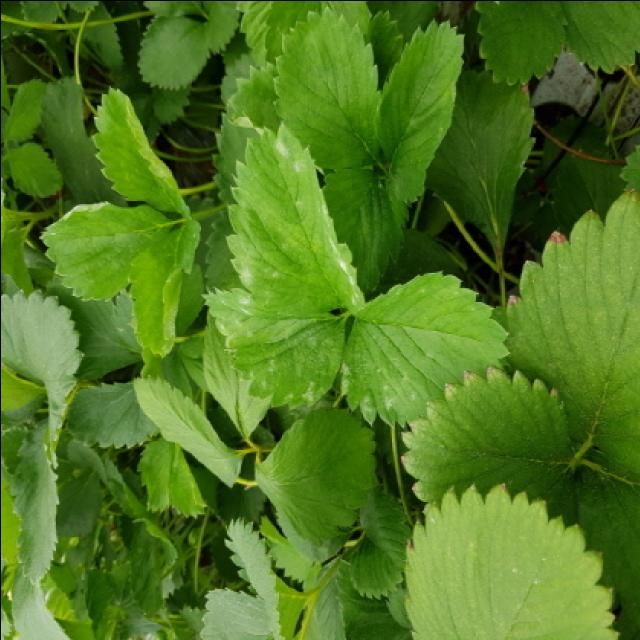Powdery Mildew Leaf: (338, 269, 512, 429), (224, 119, 366, 315), (199, 287, 346, 410)
